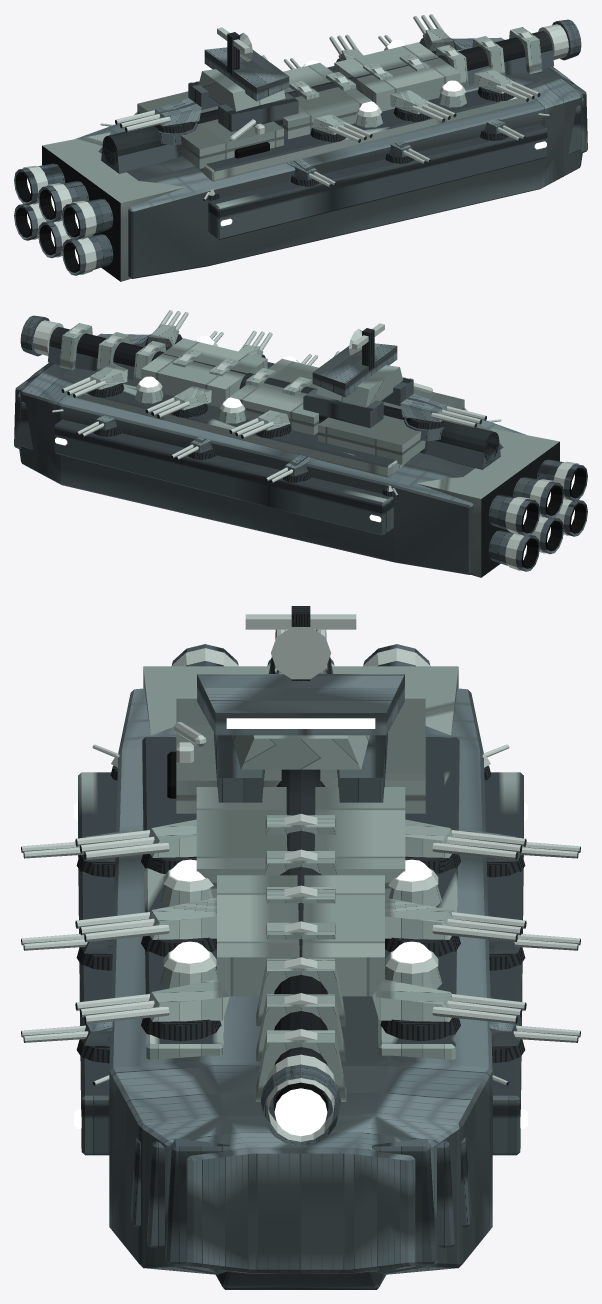
The model's file is battleship.glb.
The picture shows the model from 3 angles, top to bottom: view 1: azimuth 30°, elevation 25°; view 2: azimuth 150°, elevation 25°; view 3: azimuth 270°, elevation 25°; orthographic projection. The views are drawn at different scales.
Visible parts, largest first — view 1: hull_body, weapon_mounts, engine_block, sensor_tower, shield_domes; view 2: hull_body, weapon_mounts, engine_block, sensor_tower, shield_domes; view 3: hull_body, weapon_mounts, sensor_tower, engine_block, shield_domes.
Part boxes in pixels (bbox=[...]): hull_body: bbox=[76, 37, 587, 278]; weapon_mounts: bbox=[100, 14, 581, 200]; engine_block: bbox=[14, 132, 184, 281]; sensor_tower: bbox=[188, 27, 298, 132]; shield_domes: bbox=[302, 40, 466, 127]; hull_body: bbox=[14, 333, 525, 574]; weapon_mounts: bbox=[20, 310, 501, 496]; engine_block: bbox=[417, 428, 587, 577]; sensor_tower: bbox=[303, 323, 413, 428]; shield_domes: bbox=[135, 336, 299, 423]; hull_body: bbox=[74, 688, 527, 1289]; weapon_mounts: bbox=[21, 629, 580, 1146]; sensor_tower: bbox=[197, 606, 404, 802]; engine_block: bbox=[143, 644, 458, 735]; shield_domes: bbox=[159, 859, 442, 989].
Size of the model in its own units: 60 by 20.49 by 27.72.
1 material, 1 textured.
